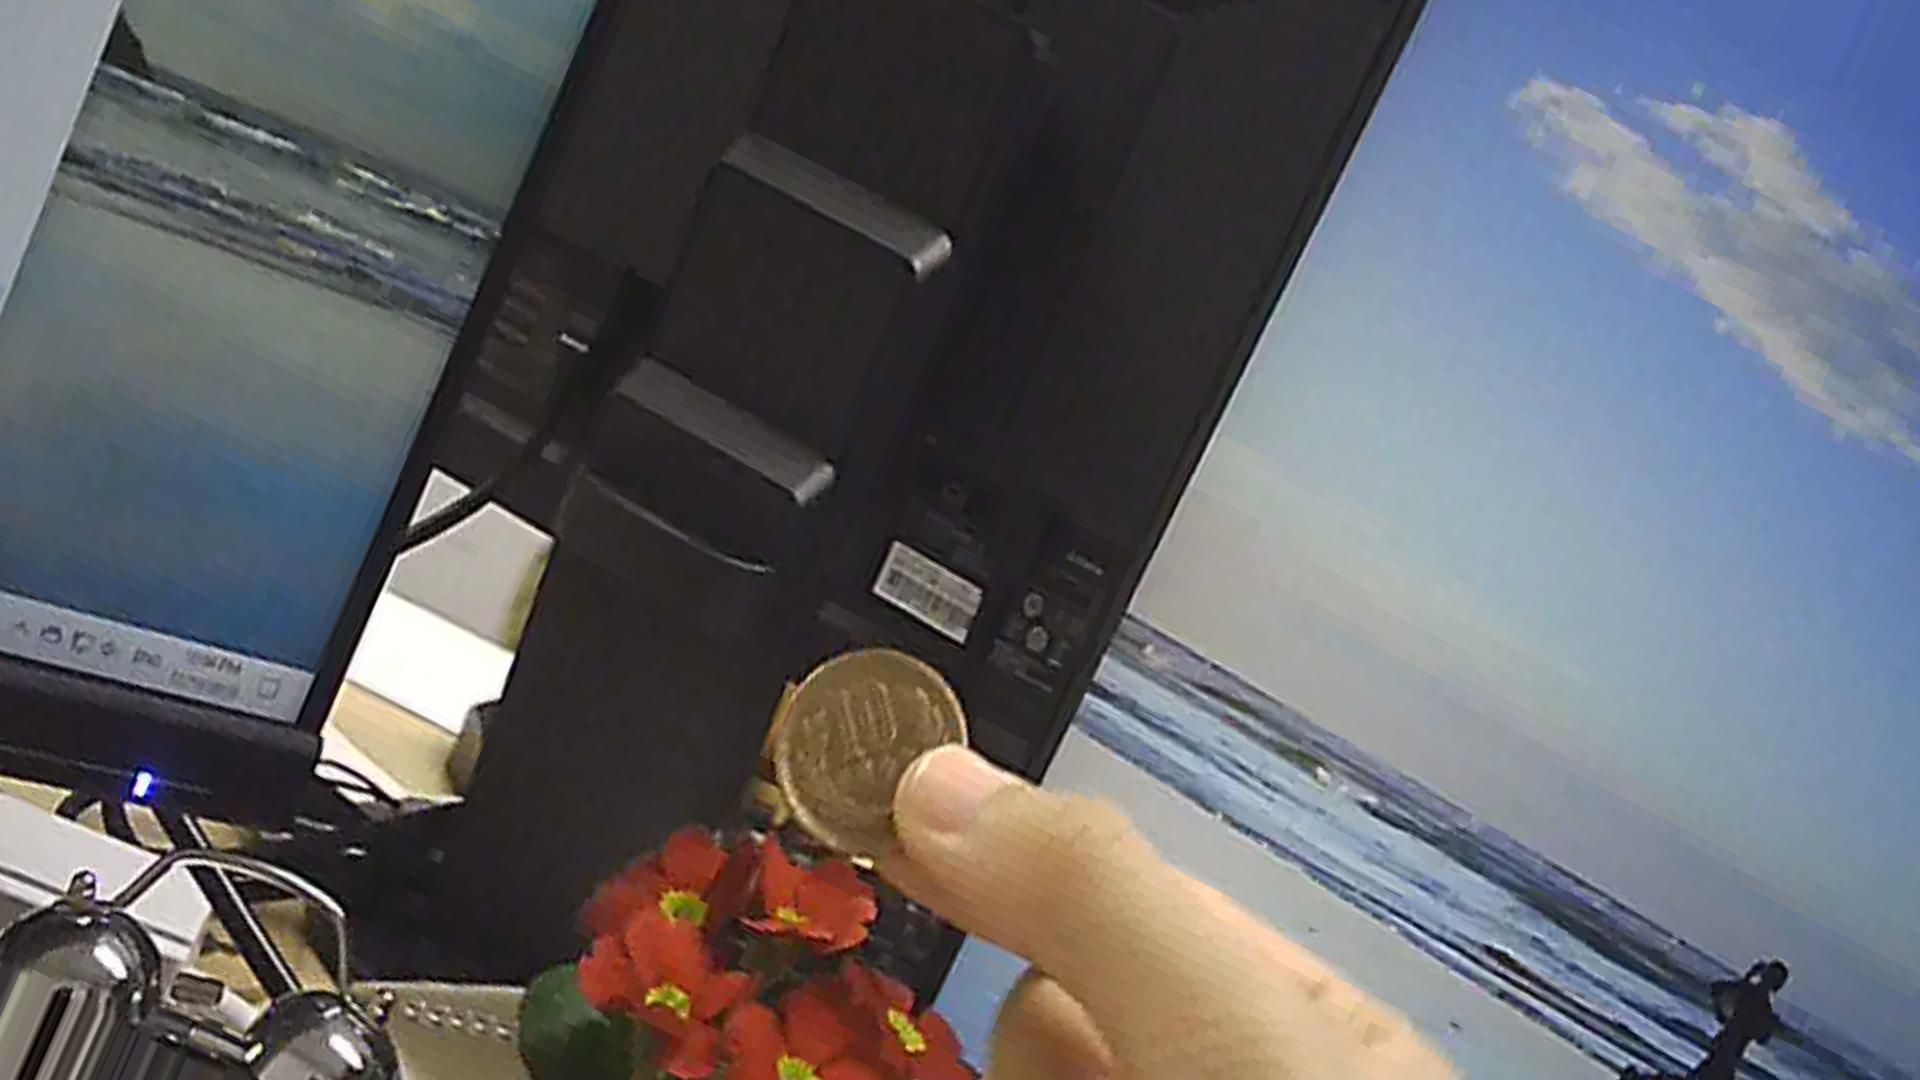10 Yen: (761, 644, 961, 856)
